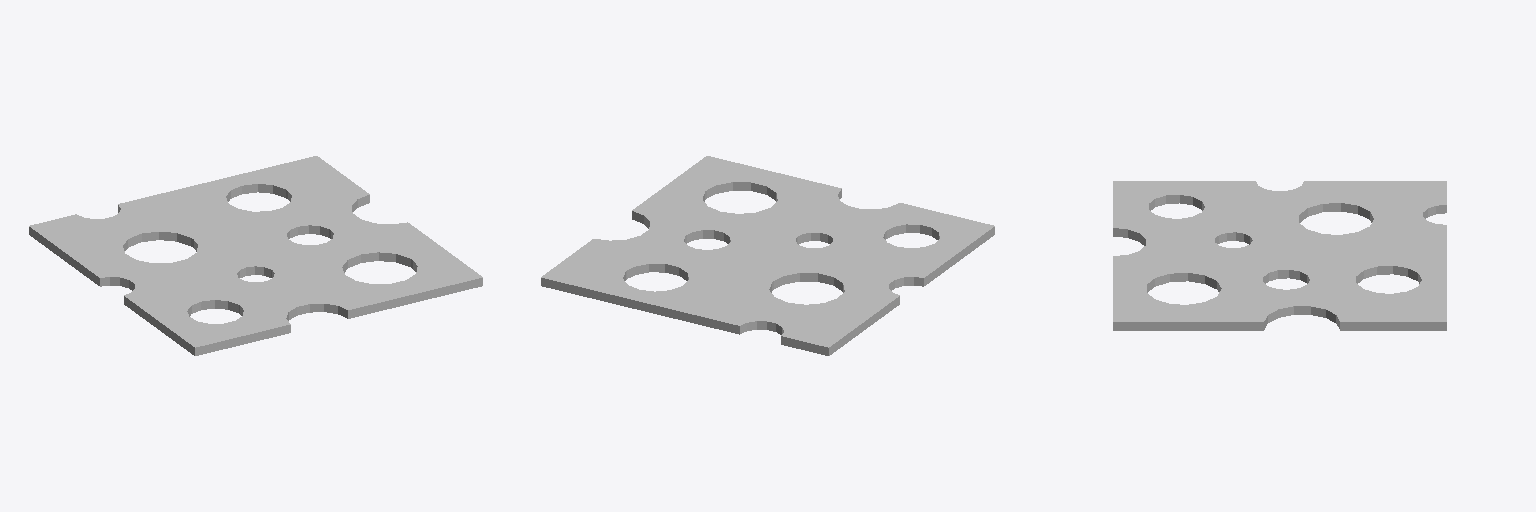
The model's file is Rebanada queso.obj.
3 renders of one model, left to right at view 1: azimuth 30°, elevation 25°; view 2: azimuth 150°, elevation 25°; view 3: azimuth 270°, elevation 25°, orthographic.
Visible parts, largest first — view 1: Rebanada_queso; view 2: Rebanada_queso; view 3: Rebanada_queso.
Boxes of the visible parts, <box> form: Rebanada_queso: <box>29,156,482,355</box>; Rebanada_queso: <box>541,156,994,355</box>; Rebanada_queso: <box>1113,181,1446,330</box>.
Bounding box in the file's own units: 35 × 1 × 35.